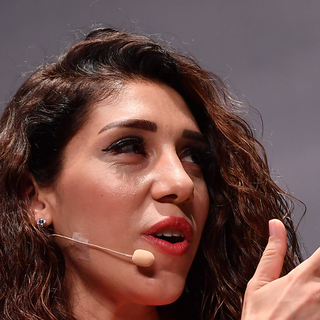eye: (101, 133, 149, 160)
